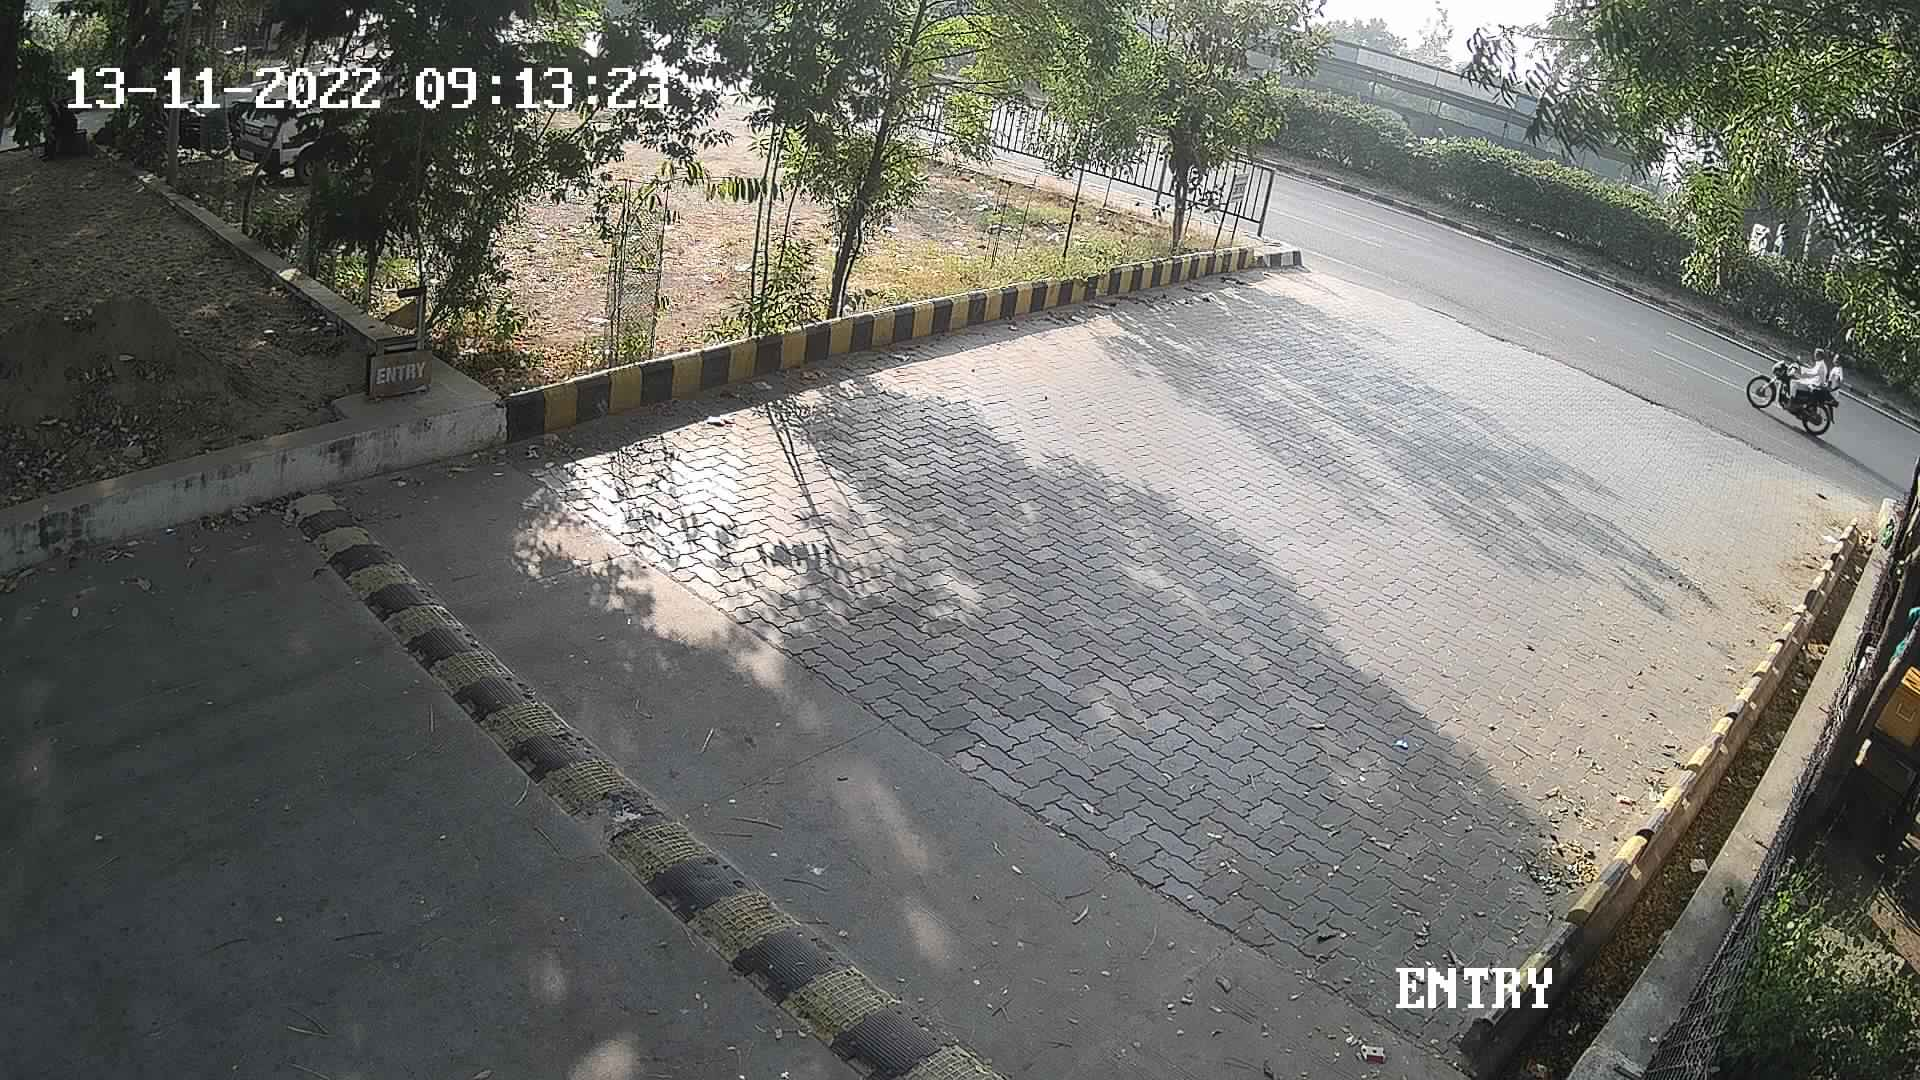Bike: (1731, 339, 1858, 444)
Car: (218, 41, 357, 200)
